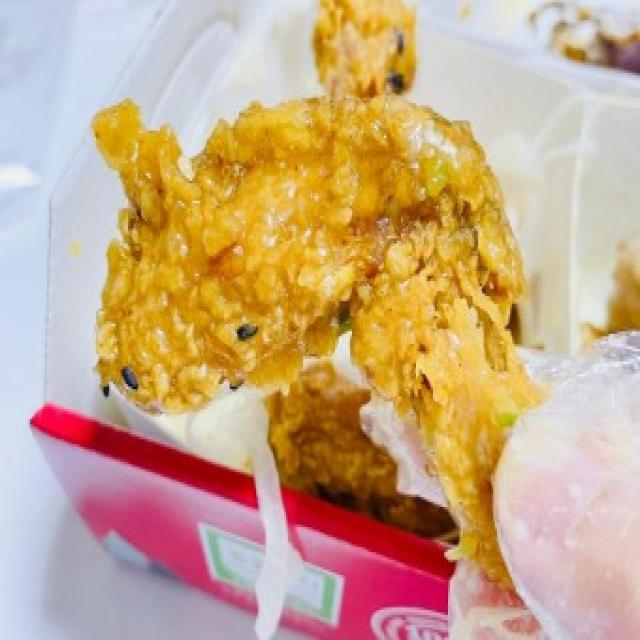Frango: (74, 75, 560, 608)
